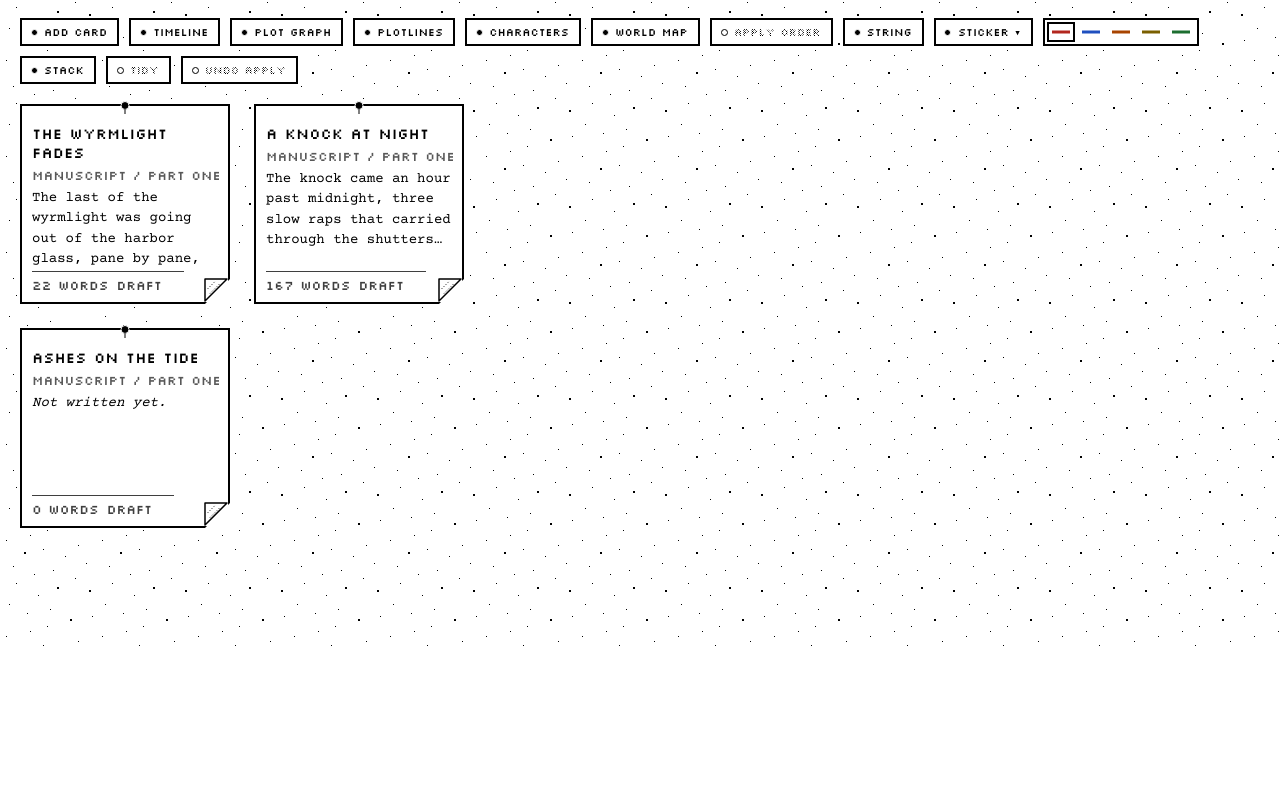
the back of the card › turns a card over, and writes what is on its back to the scene
Click the button named "Turn The Wyrmlight Fades over" at (218, 292), box [204, 278, 231, 305]
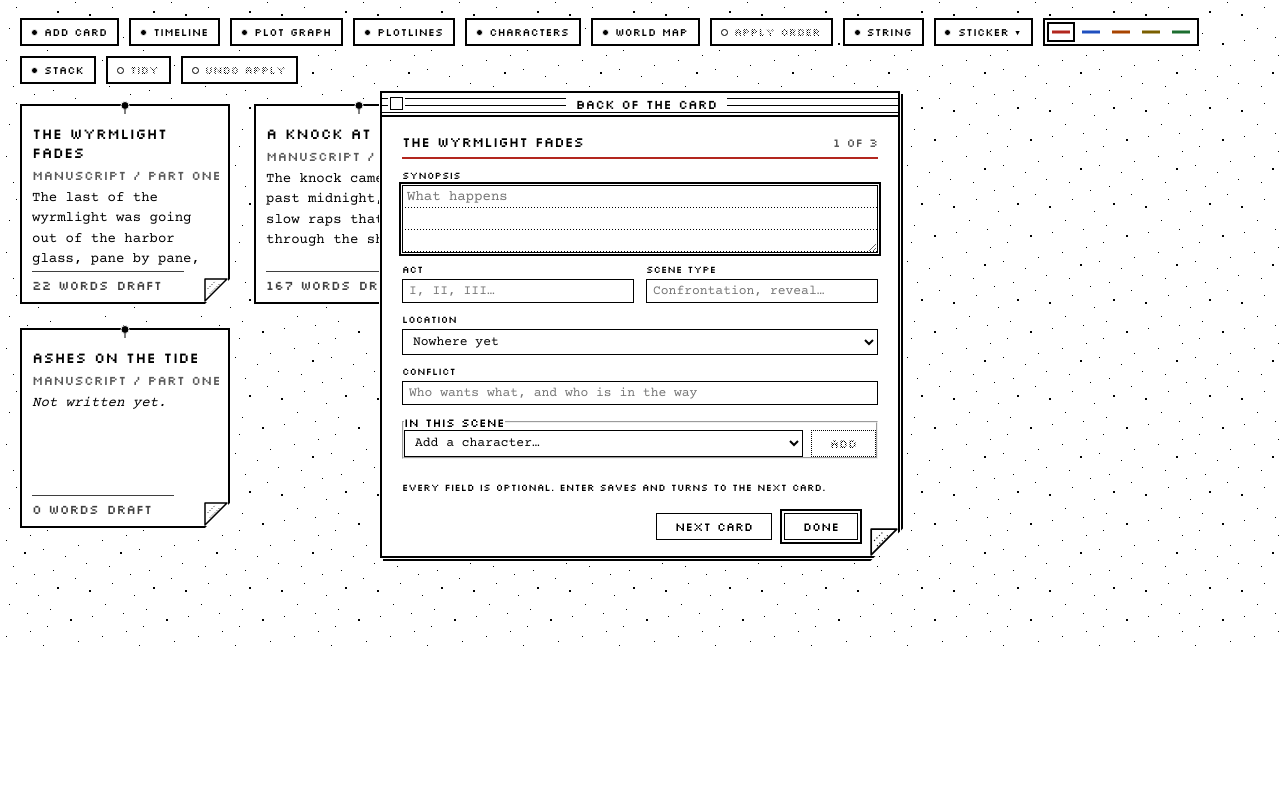
Type "Reed comes for the ledger." into the text box labelled "Synopsis" at (640, 218), box [402, 184, 878, 252]
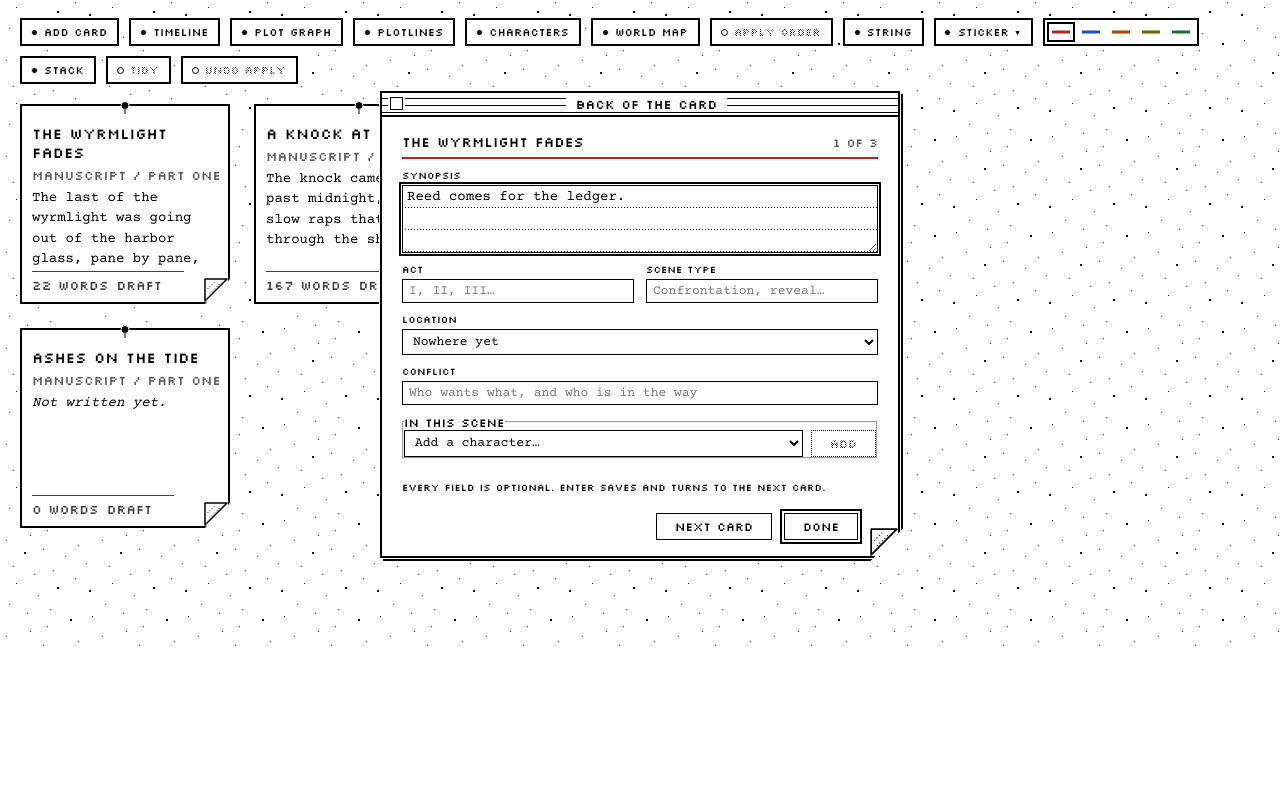
Type "II" into the field labelled "Act" at (518, 290), box [402, 278, 634, 302]
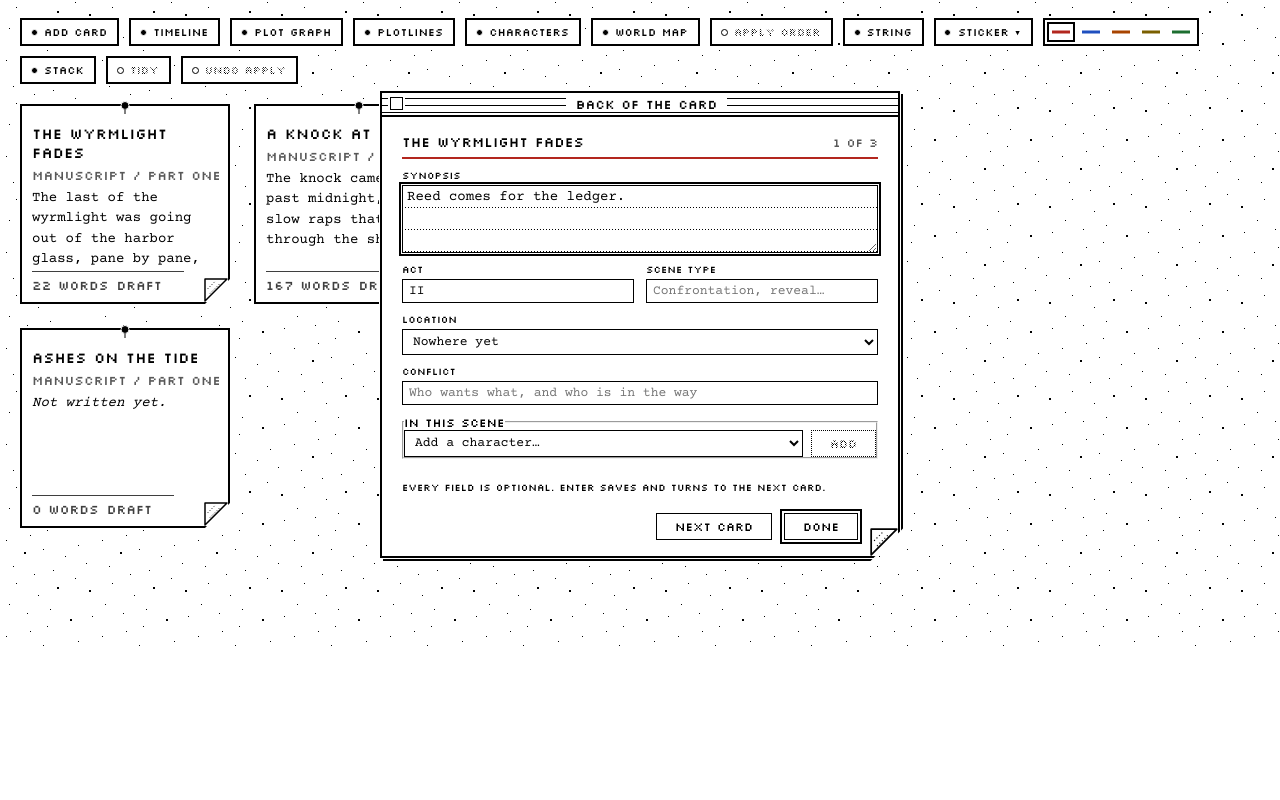
Type "Confrontation" into the field labelled "Scene type" at (762, 290), box [646, 278, 878, 302]
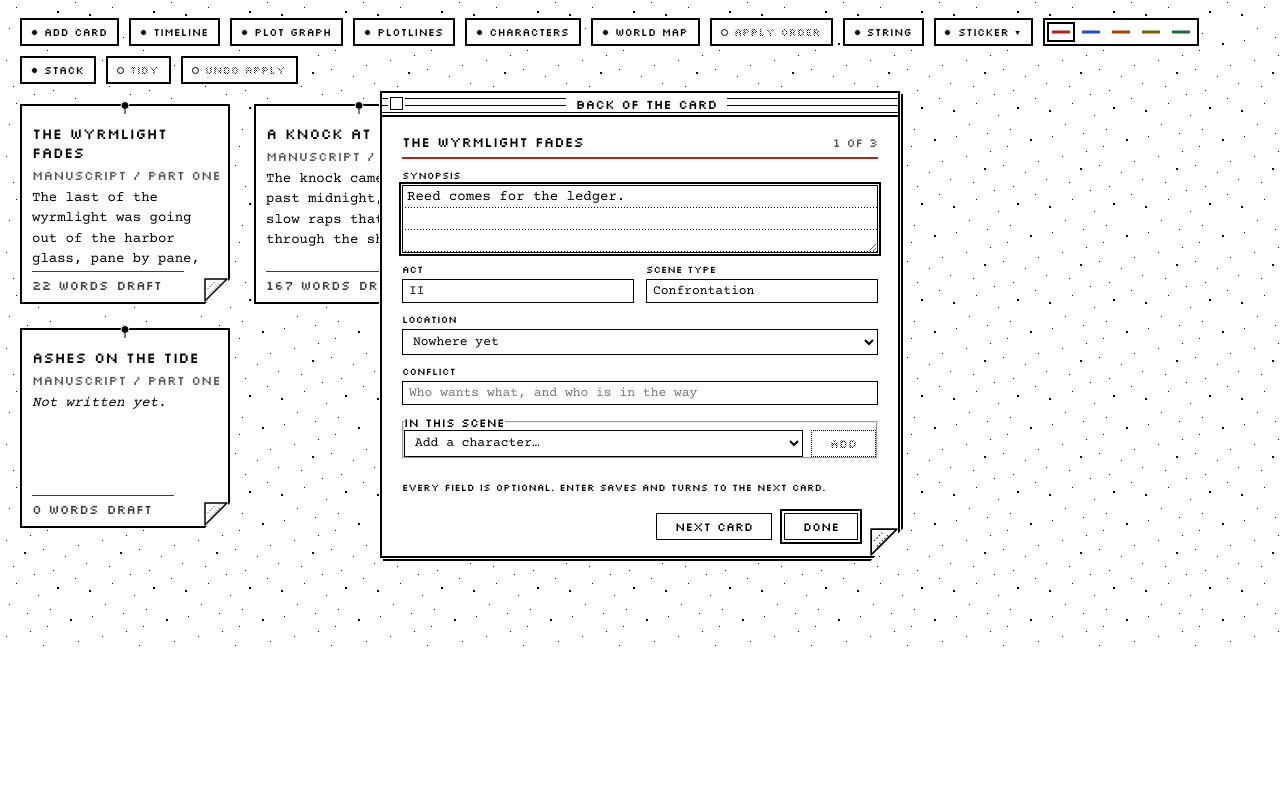
Type "Reed wants it; Maren will not open." into the field labelled "Conflict" at (640, 392), box [402, 380, 878, 404]
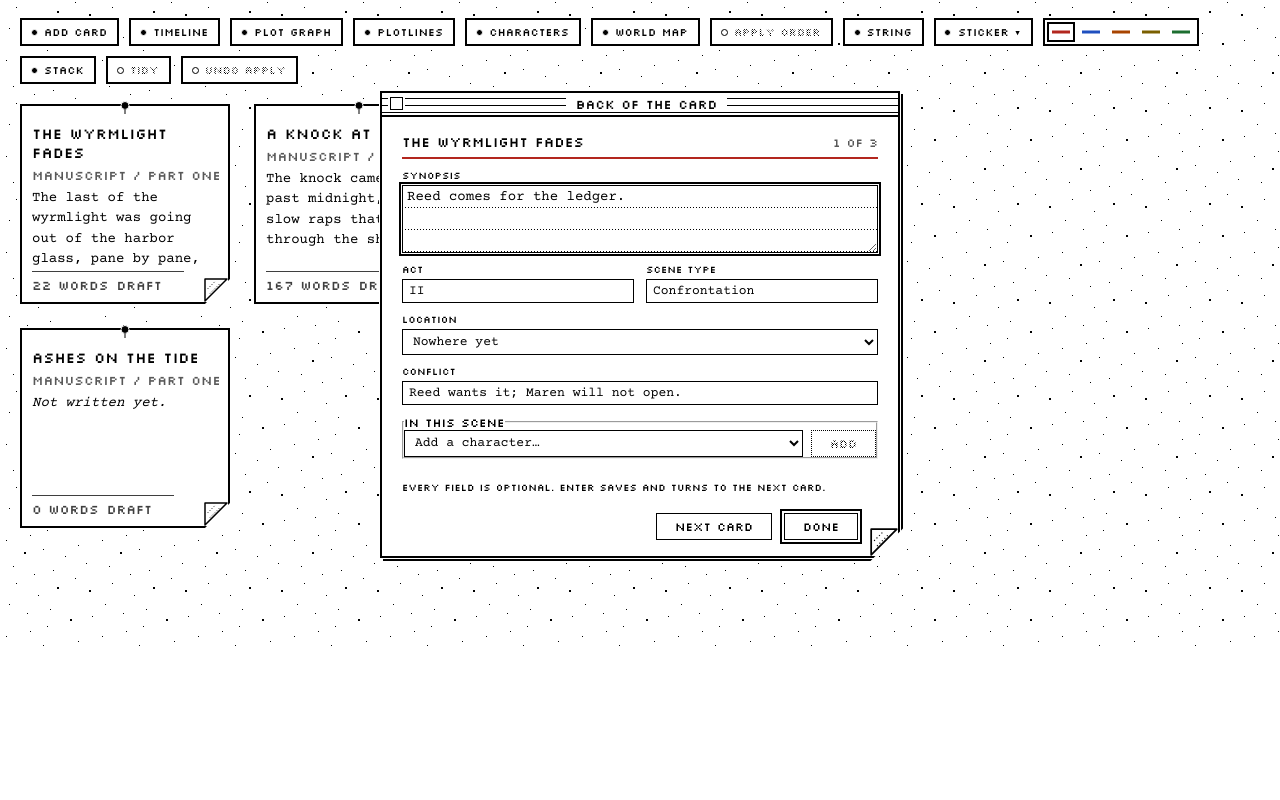
Click the button "Done" at (821, 526), box [784, 512, 858, 540]
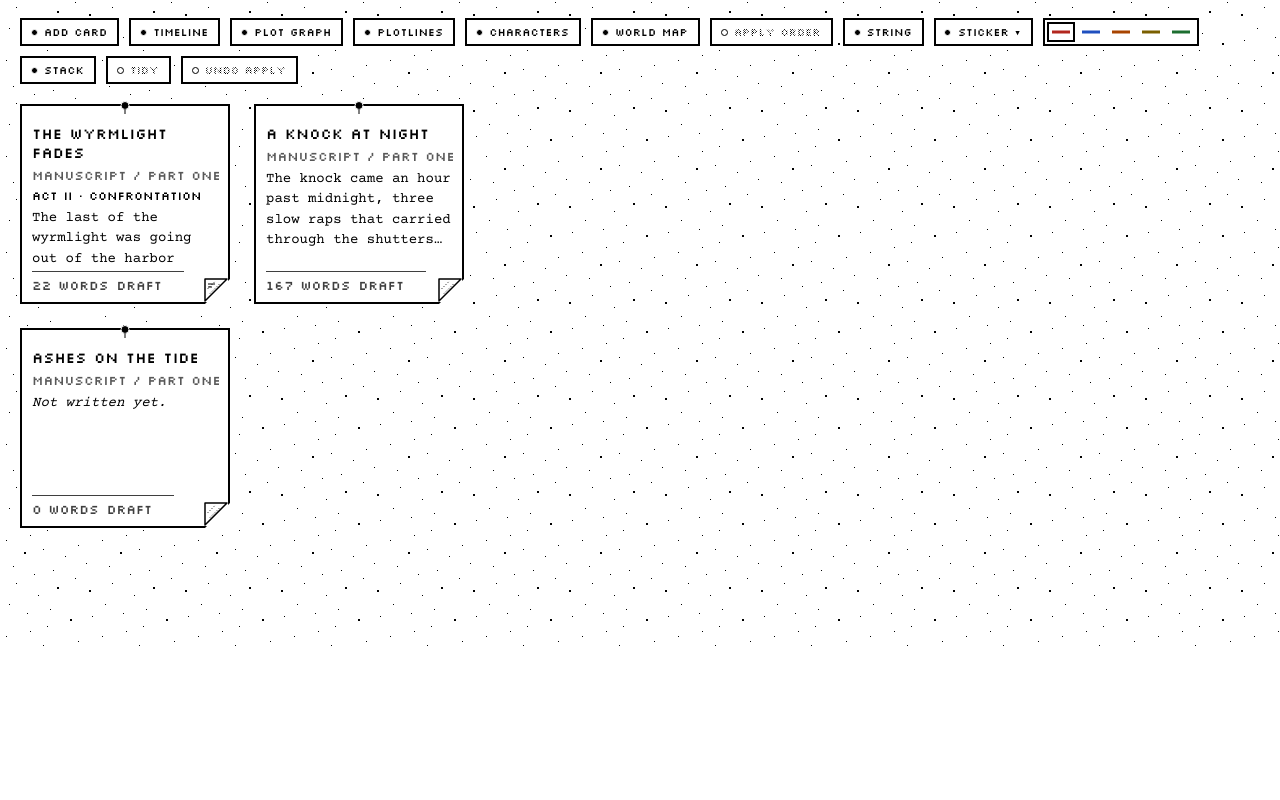
Check: the dialog is gone
Check: the text "Act II · Confrontation" is shown, box [32, 188, 202, 203]
